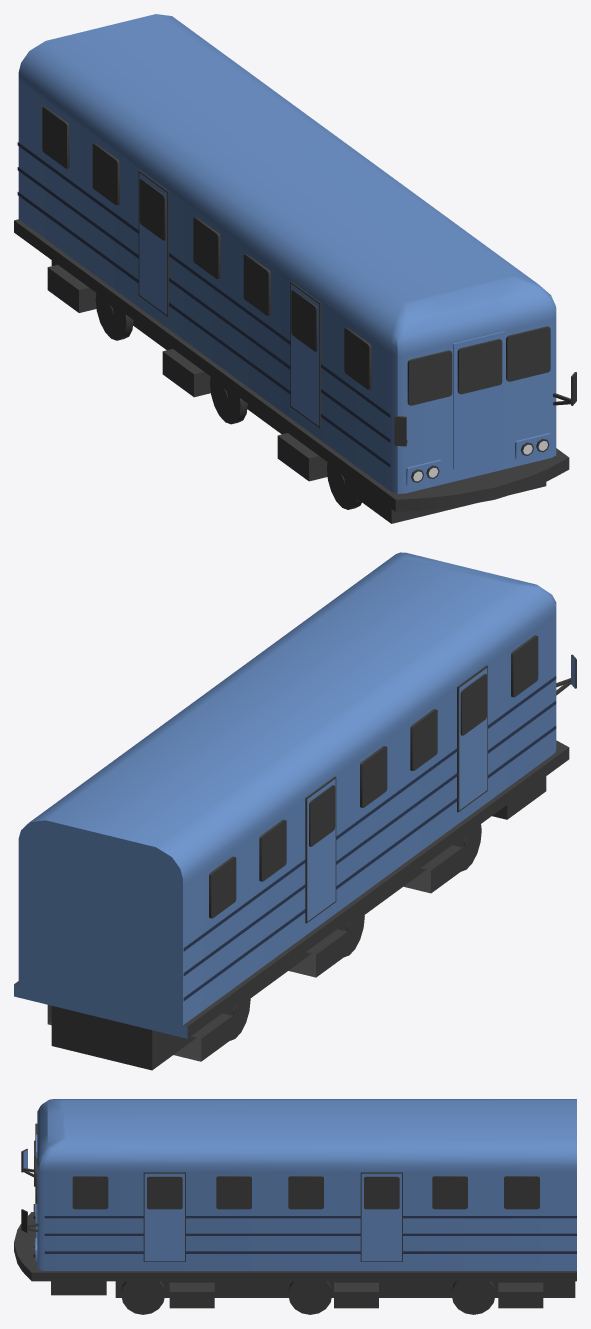
Rendered from Train.fbx.
3 renders of one model, top to bottom at view 1: azimuth 30°, elevation 25°; view 2: azimuth 150°, elevation 25°; view 3: azimuth 270°, elevation 25°, orthographic. The views are drawn at different scales.
Visible parts, largest first — view 1: Train; view 2: Train; view 3: Train.
Boxes of the visible parts, box(x1,y1,x2,y2) form: Train: box(14, 14, 576, 523); Train: box(14, 552, 576, 1070); Train: box(14, 1099, 576, 1314).
Bounding box in the file's own units: 297 × 378 × 1109.
